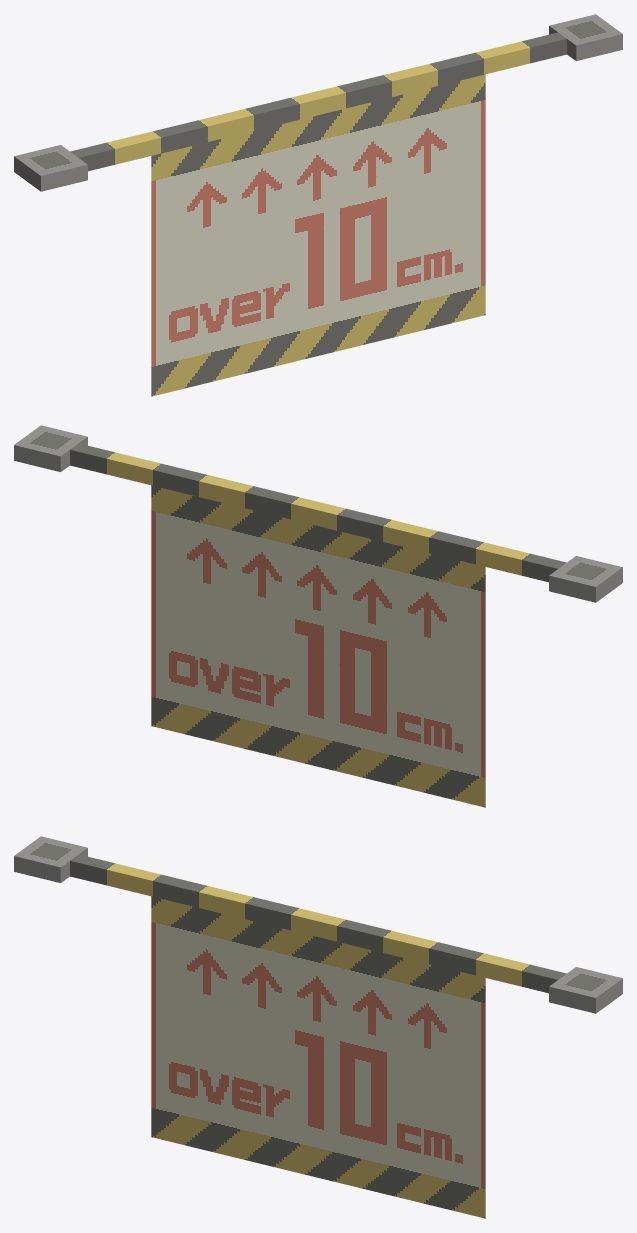
File: 05b3_Over_10cm_Sign.glb
The picture shows the model from 3 angles, top to bottom: view 1: azimuth 30°, elevation 25°; view 2: azimuth 150°, elevation 25°; view 3: azimuth 330°, elevation 25°; orthographic projection.
Parts seen in each view (by area): view 1: part_0; view 2: part_0; view 3: part_0.
Part boxes in pixels (<box>): part_0: <box>14,14,622,396</box>; part_0: <box>14,425,622,807</box>; part_0: <box>14,836,622,1218</box>.
Bounding box in the file's own units: 0.087 × 0.0373 × 0.007.
Materials: 1 (1 with a texture image).
